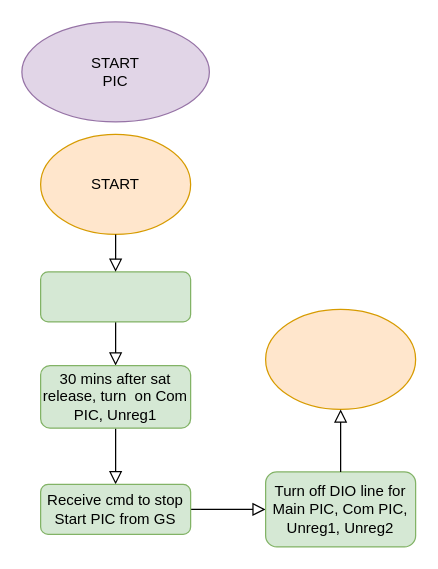
Image size: 438x569. Some labels were removed from this diagram. Each missing label, with the centre of its shape:
"END" belongs at point (340, 358).
"Turn on Main PIC, Unreg1" belongs at point (115, 296).
